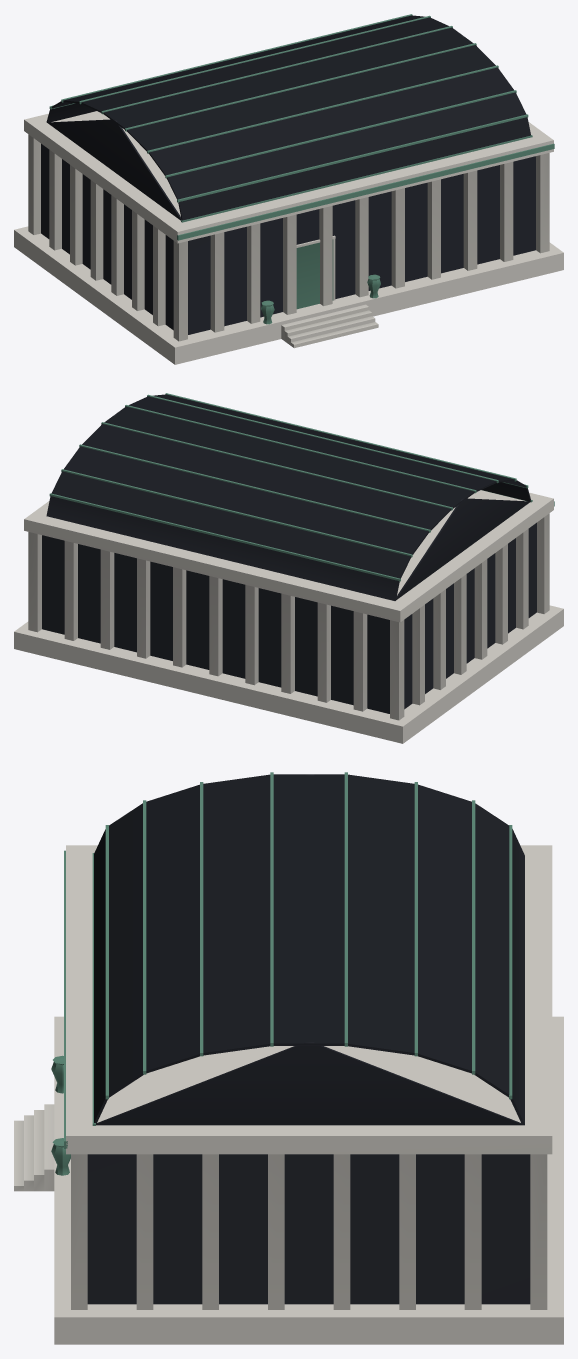
File: shell_mausoleum_glass.glb
3 views of the same model, one above another, from view 1: azimuth 30°, elevation 25°; view 2: azimuth 150°, elevation 25°; view 3: azimuth 270°, elevation 25° (orthographic). The views are drawn at different scales.
Parts seen in each view (by area): view 1: shell_mausoleum_glass; view 2: shell_mausoleum_glass; view 3: shell_mausoleum_glass.
Boxes of the visible parts, x1,y1,x2,y2 form: shell_mausoleum_glass: (14, 14, 563, 364); shell_mausoleum_glass: (14, 393, 563, 743); shell_mausoleum_glass: (14, 772, 563, 1344).
Size of the model in its own units: 21.2 by 9.43 by 16.4.
